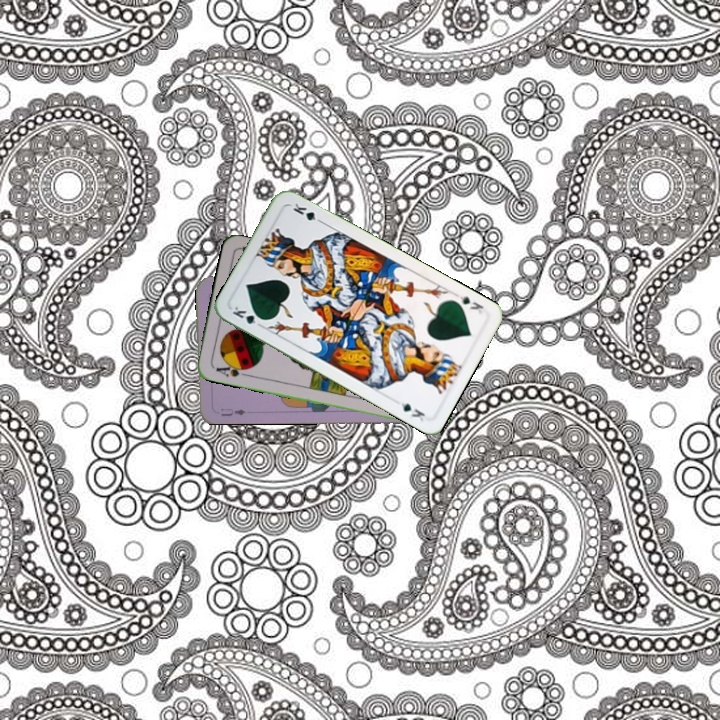EU: (217, 404, 248, 419)
GK: (228, 302, 267, 330), (455, 291, 486, 316)
SA: (212, 359, 252, 380)
